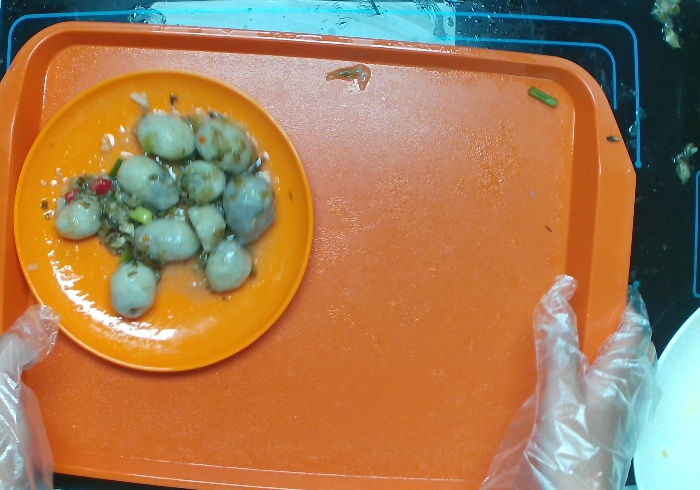HZYJPL-Ju_Huang_Yuan_Pan: (12, 68, 315, 374)
